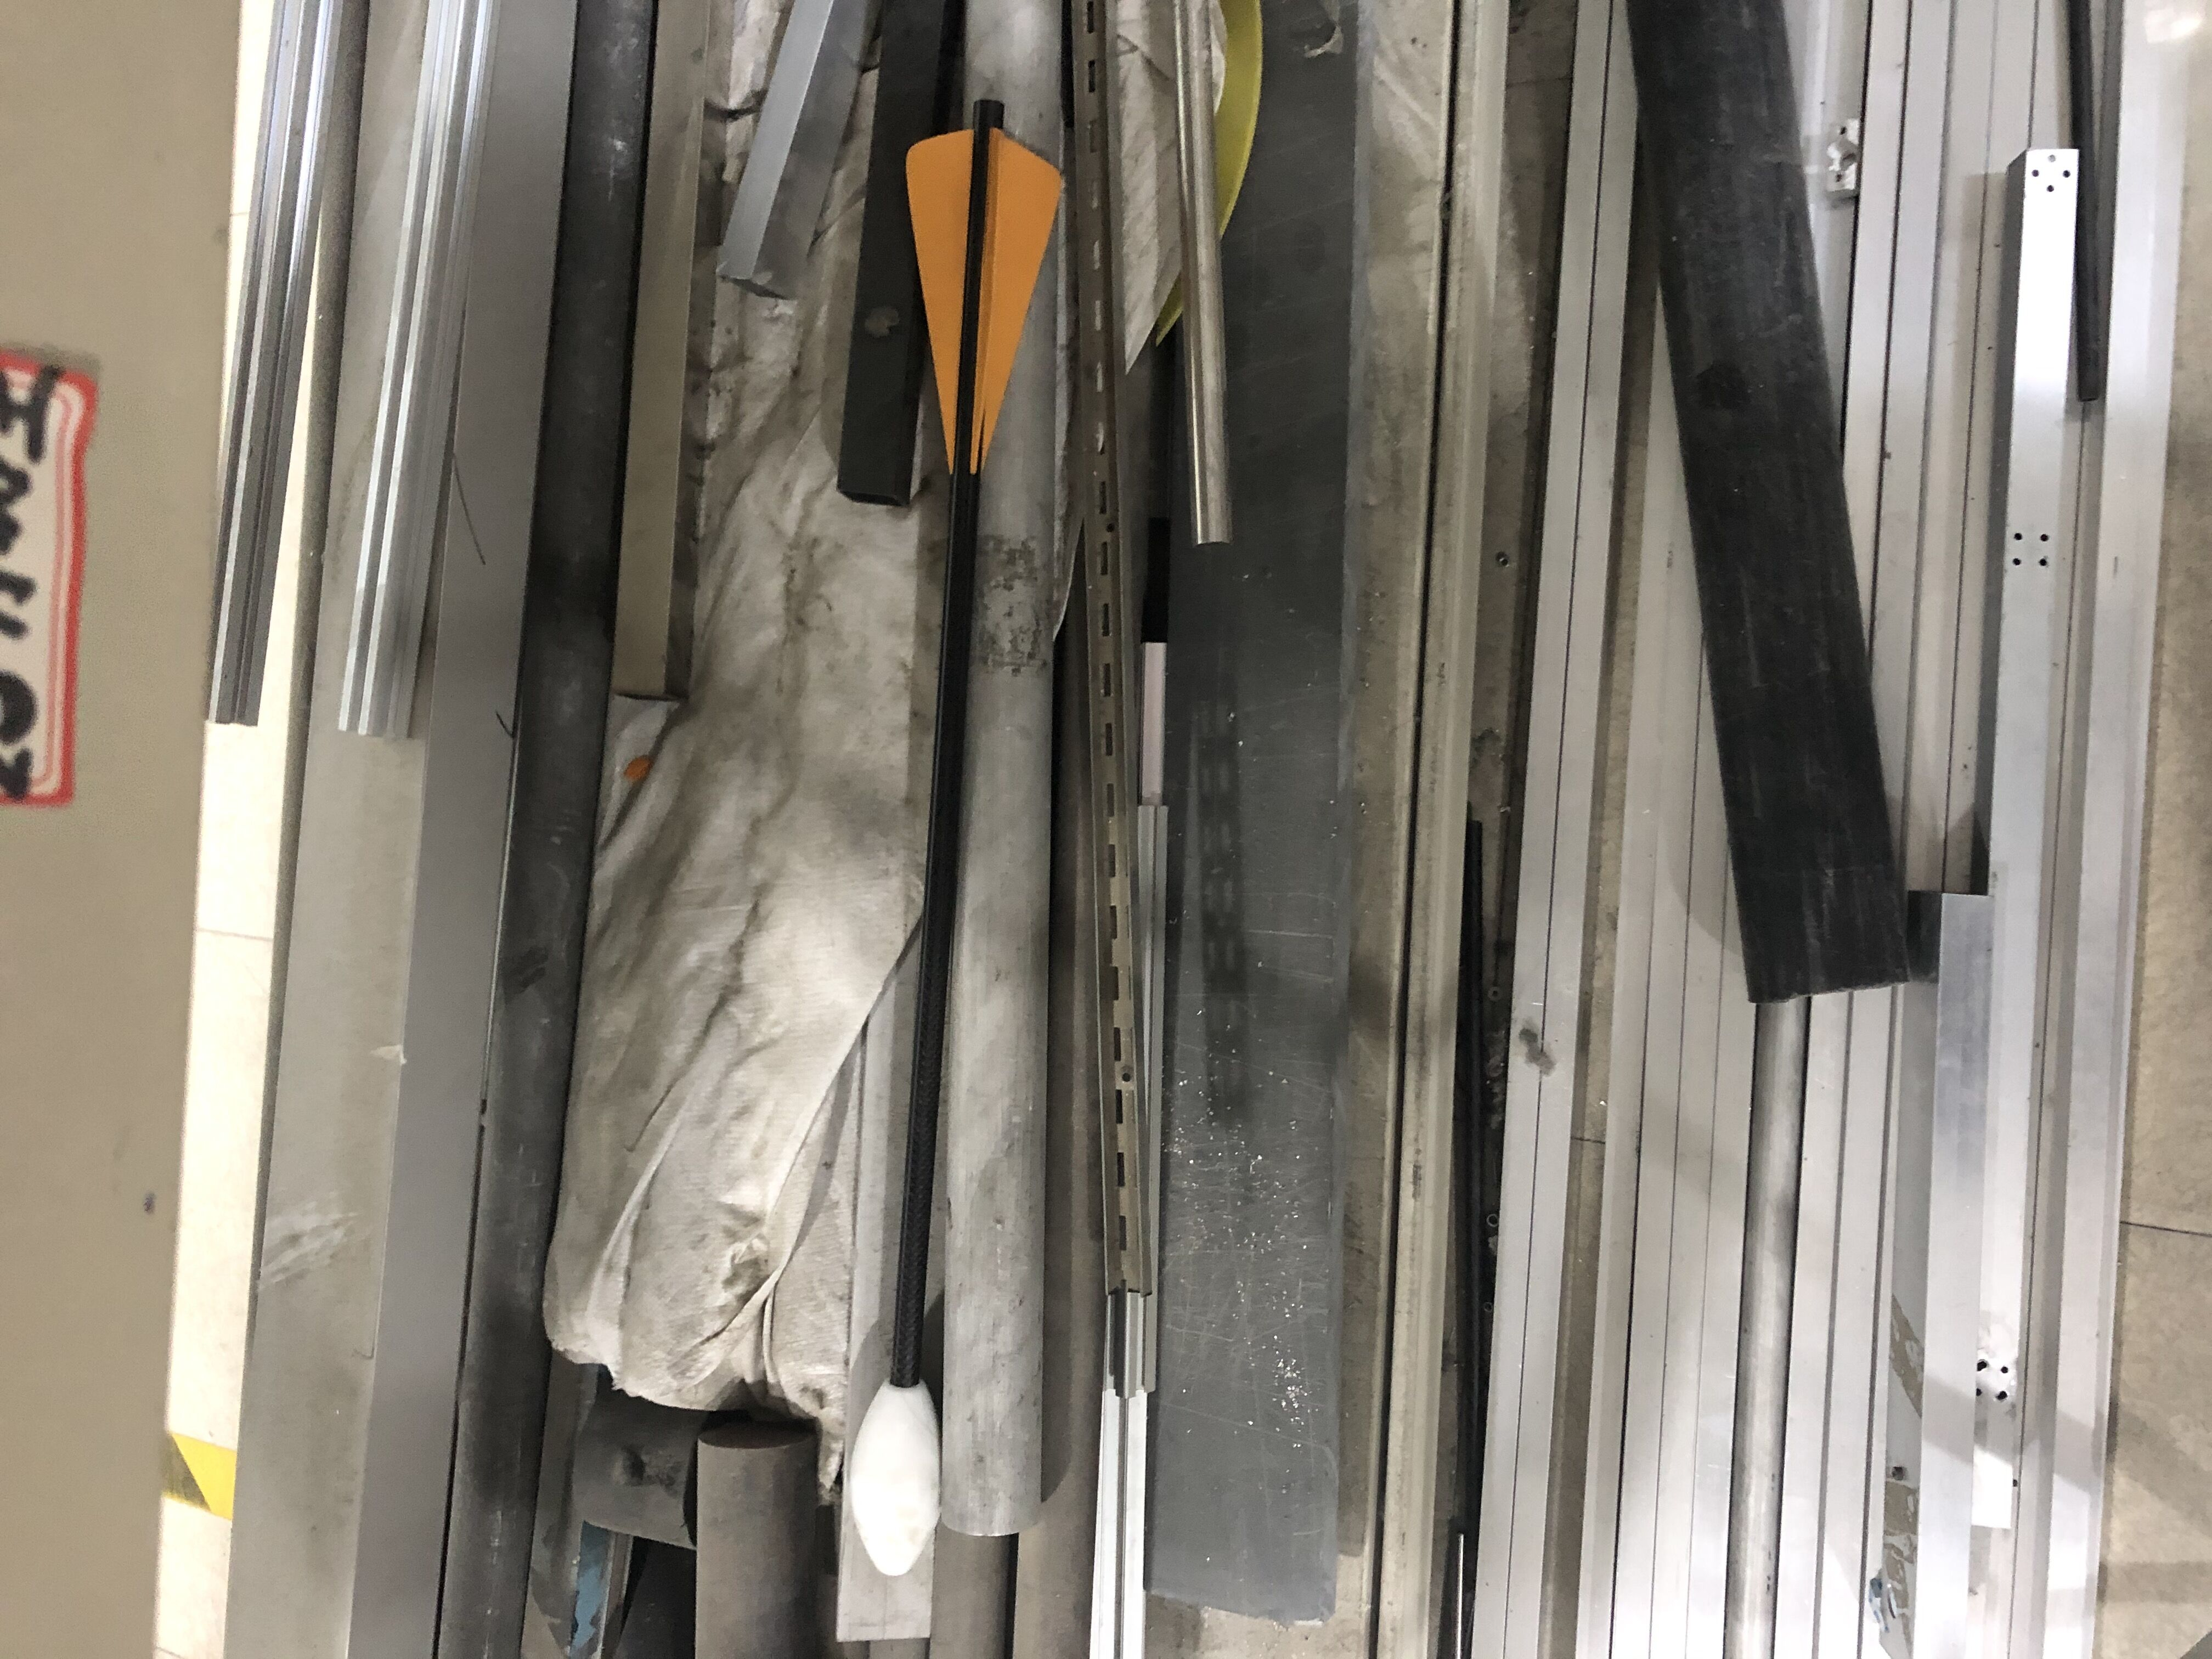arrow: (841, 94, 1068, 1582)
arrowFront: (846, 1364, 948, 1581)
